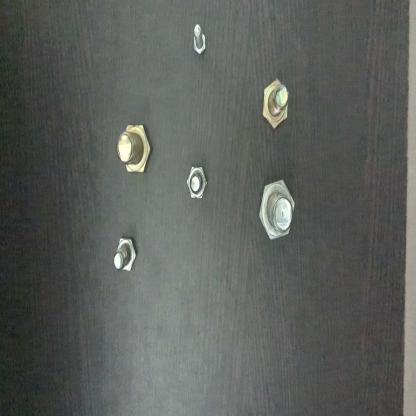Bolts: (108, 116, 160, 183), (254, 174, 298, 252), (259, 71, 294, 127), (108, 229, 142, 275), (184, 160, 211, 206), (188, 18, 212, 66)
